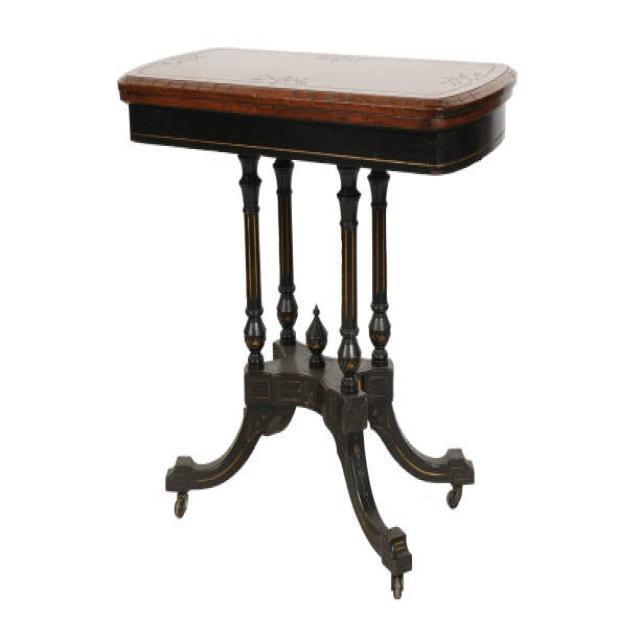table: (116, 43, 517, 600)
